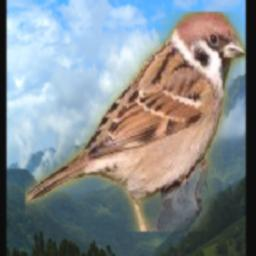Sparrow: (25, 13, 246, 233)
